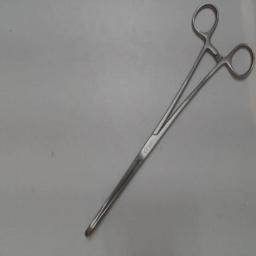Sponge Forceps: (79, 0, 255, 248)
